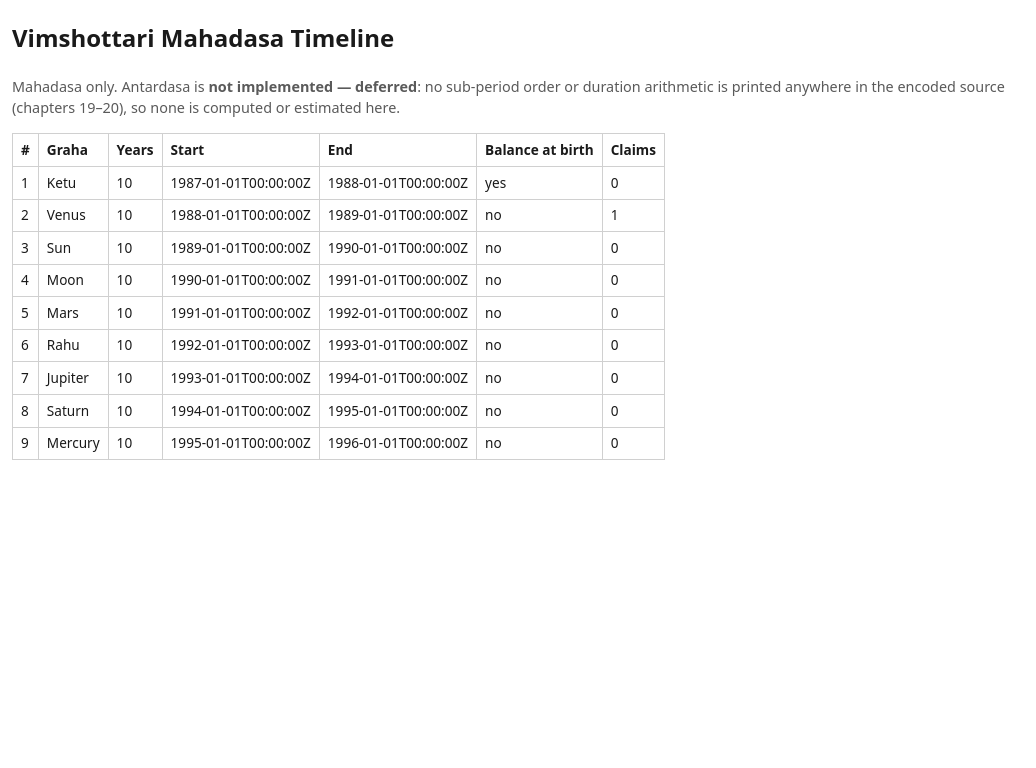
Scenario: DasaTimeline › shows the attached claim when a period is selected
The width and height of the screenshot is (1036, 768).
Click the text "Venus" at point(73, 215), box x1=38 y1=199 x2=108 y2=232
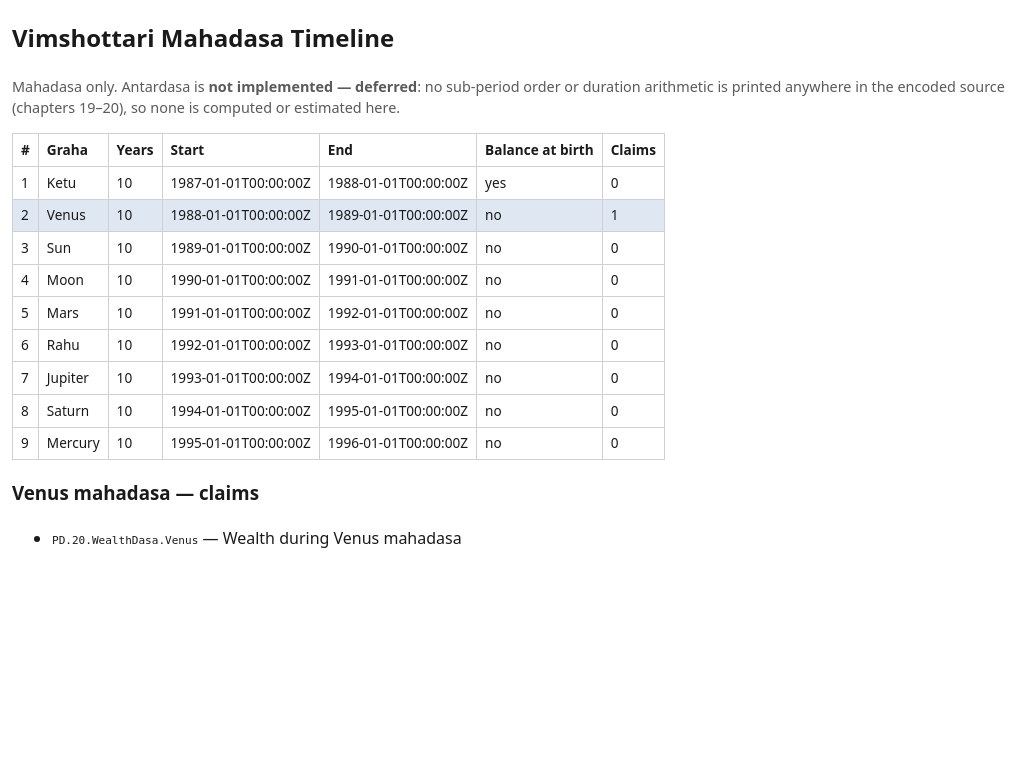
Expected: the list item "PD.20.WealthDasa.Venus — Wealth during Venus mahadasa" is shown, x1=52 y1=527 x2=462 y2=549
